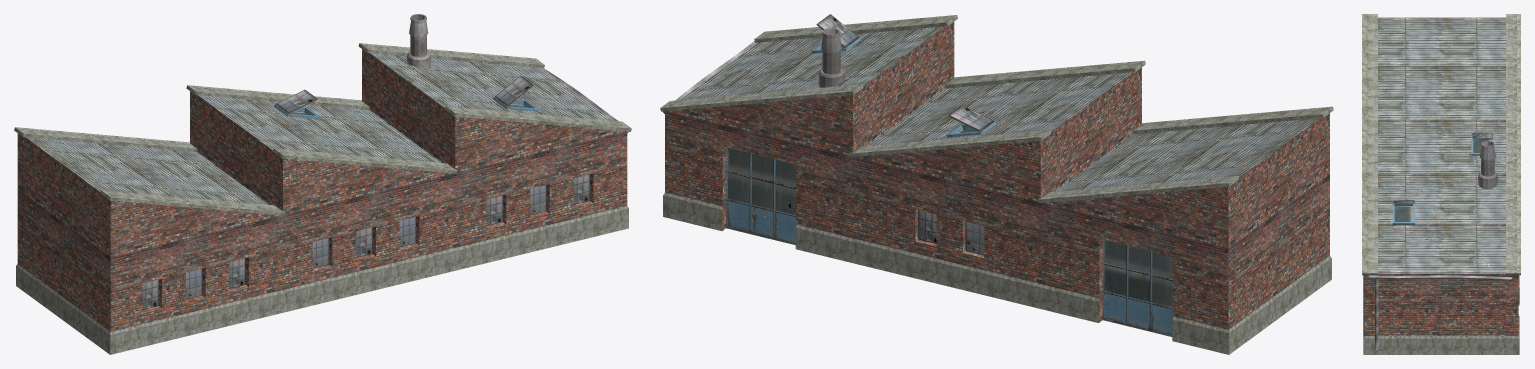
File: building_8.DAE
3 renders of one model, left to right at view 1: azimuth 30°, elevation 25°; view 2: azimuth 150°, elevation 25°; view 3: azimuth 270°, elevation 25°, orthographic. The views are drawn at different scales.
Parts seen in each view (by area): view 1: Mesh_Object; view 2: Mesh_Object; view 3: Mesh_Object.
Part boxes in pixels (bbox=[...]): Mesh_Object: bbox=[14, 14, 631, 354]; Mesh_Object: bbox=[660, 14, 1333, 354]; Mesh_Object: bbox=[1362, 14, 1520, 354].
Bounding box in the file's own units: 63.8 × 21.86 × 20.1.
